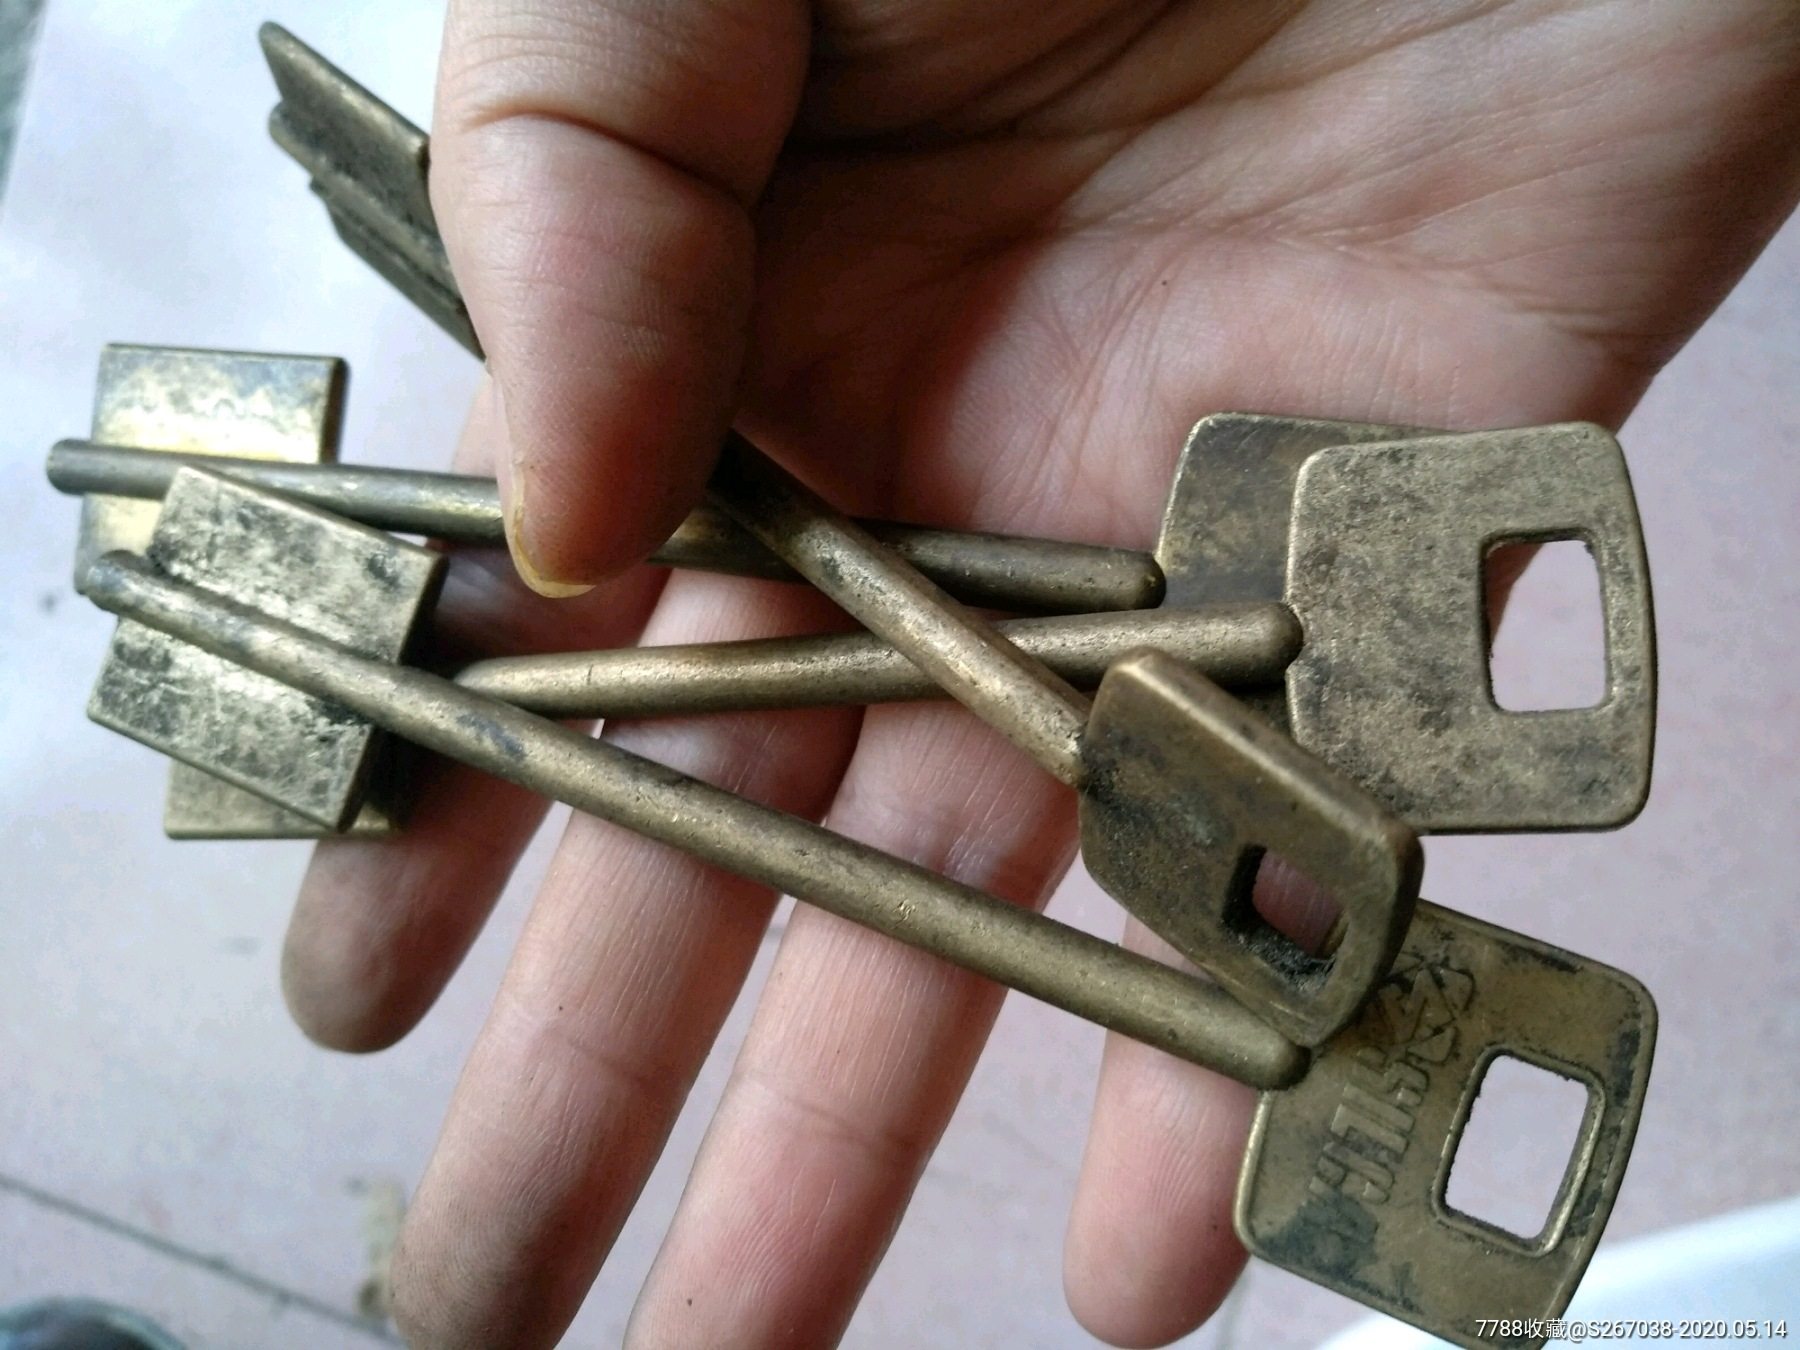key: (82, 492, 1687, 1346)
